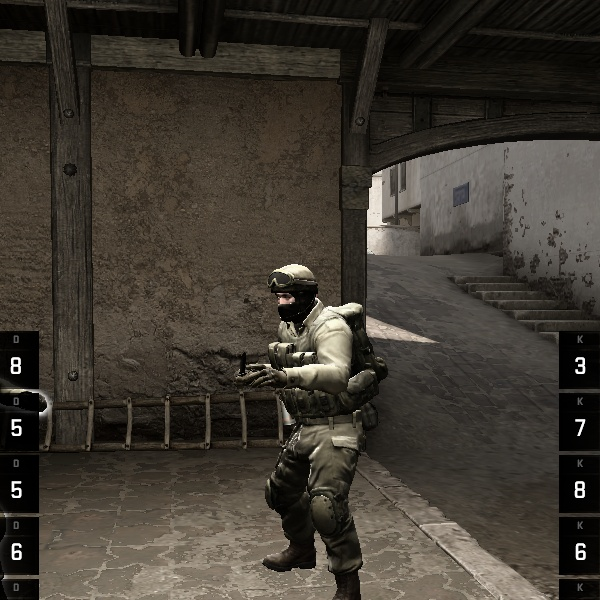ct_body: (219, 256, 396, 596)
ct_head: (262, 264, 331, 332)
